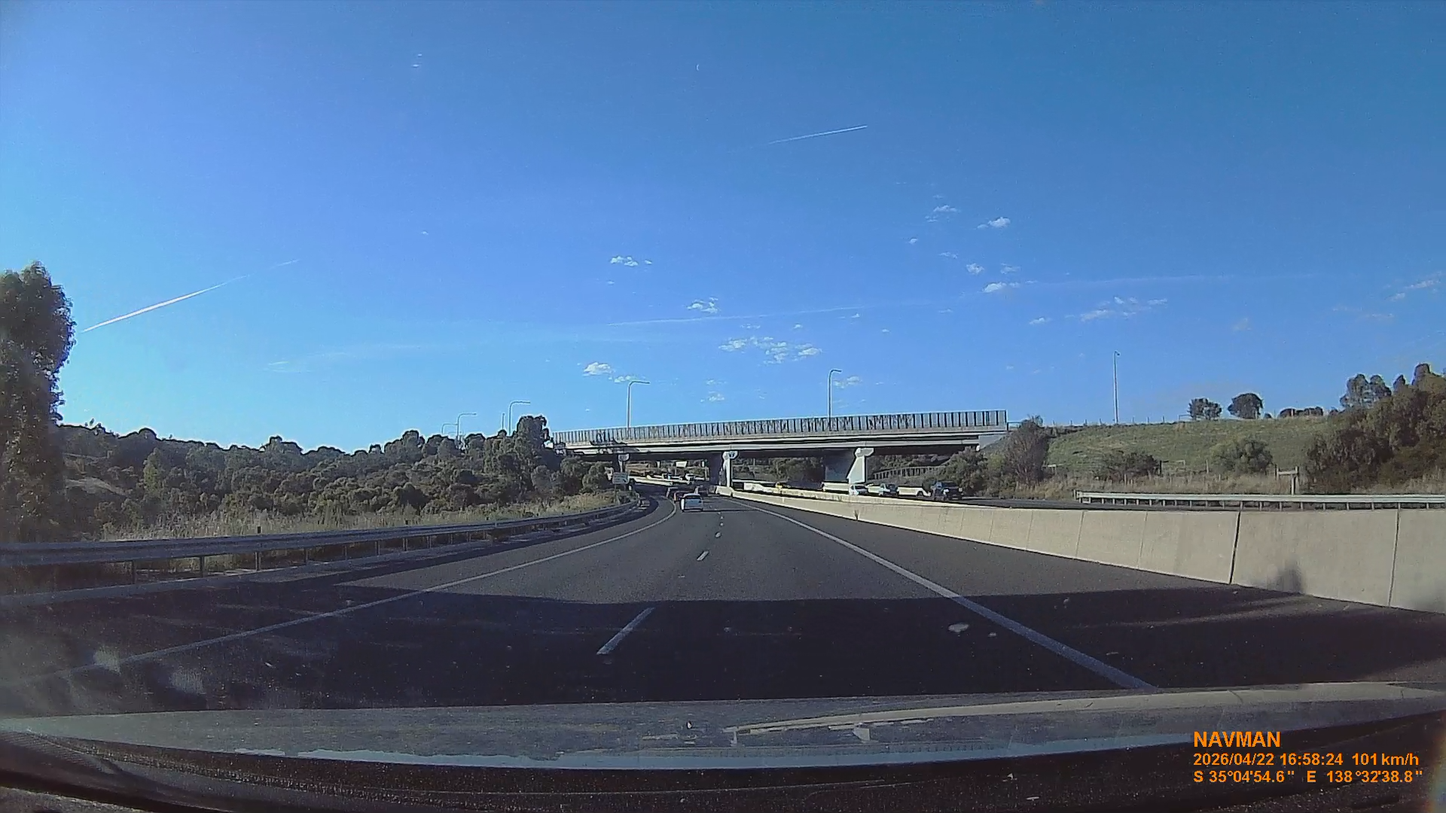road barriers: (736, 486, 1446, 611), (2, 505, 635, 589)
